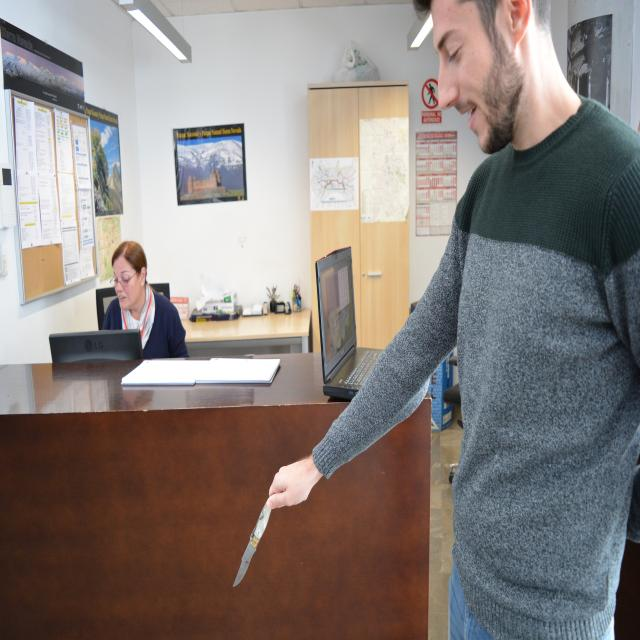knife: (231, 498, 277, 593)
